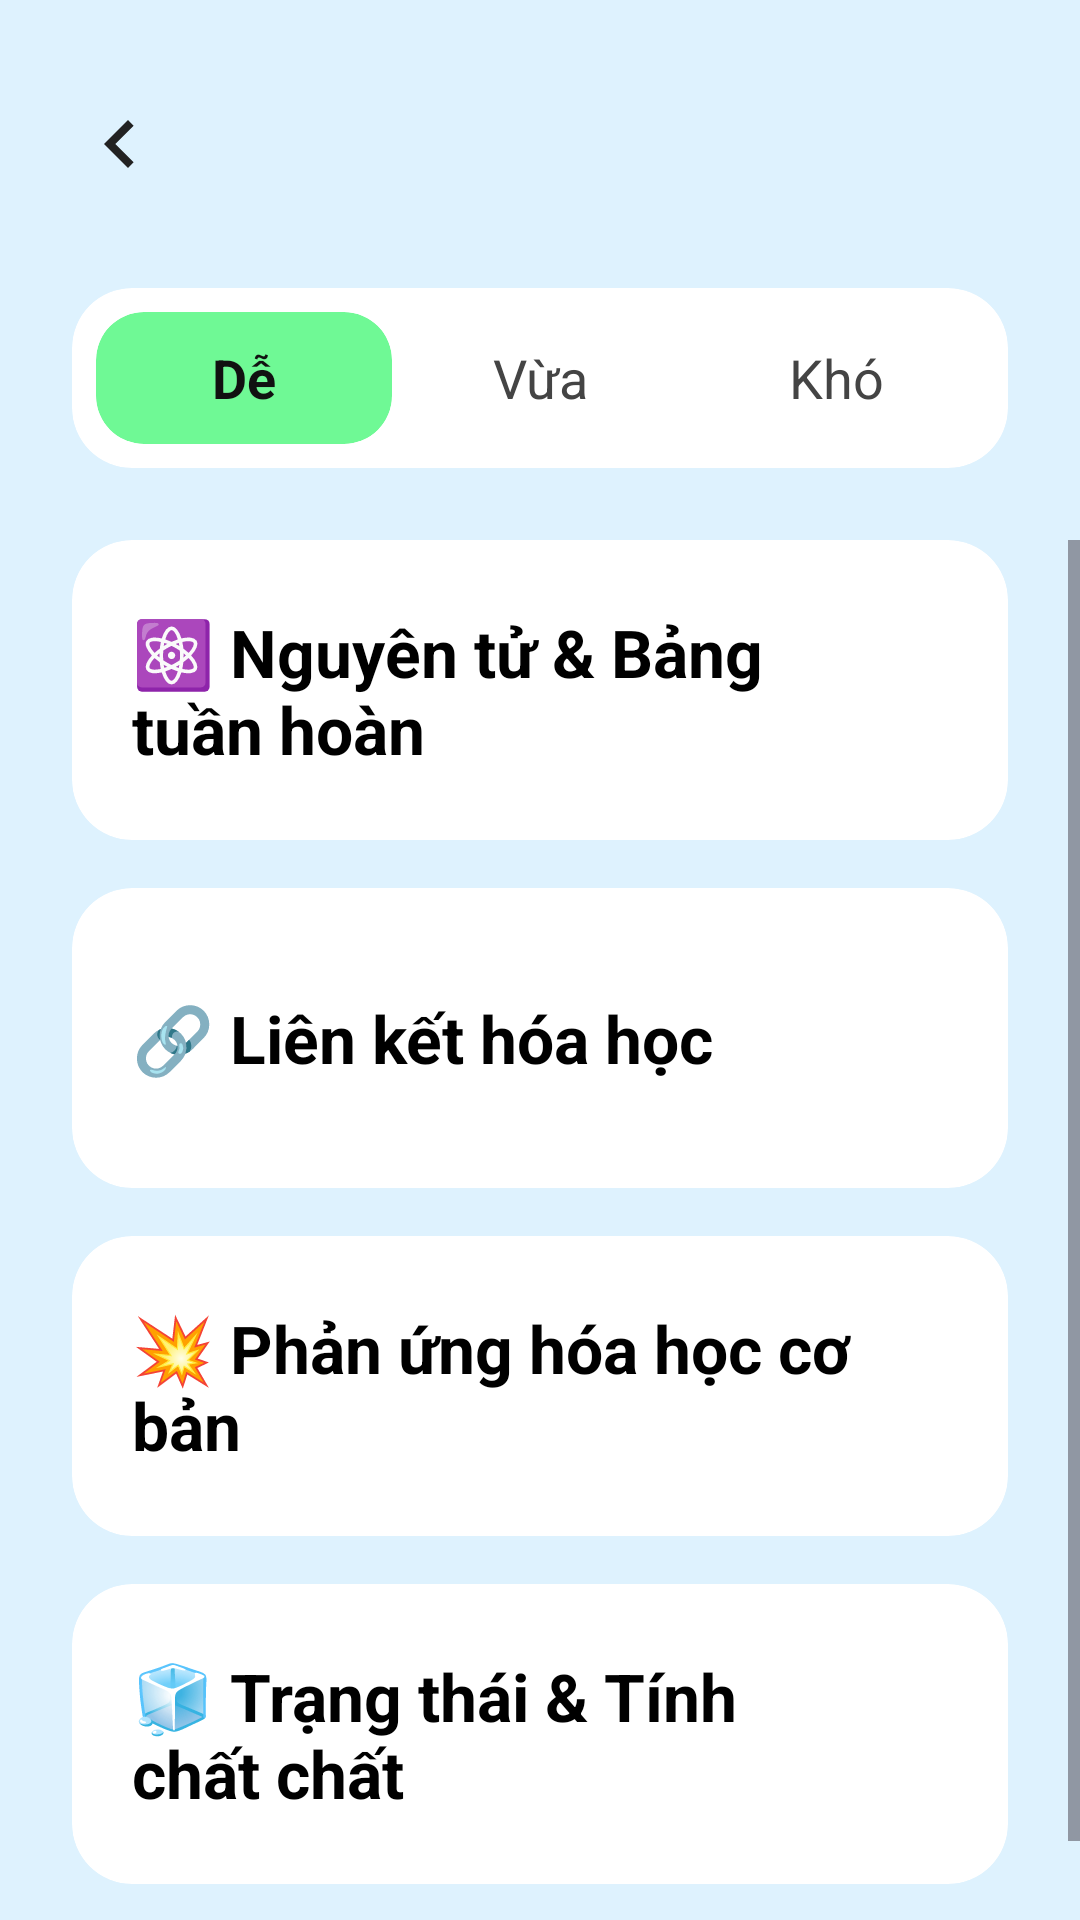

Icons on this 1080 x 1920 Android screen, each with the point to tap as (x=x, y=y):
back arrow: (x=119, y=144)
